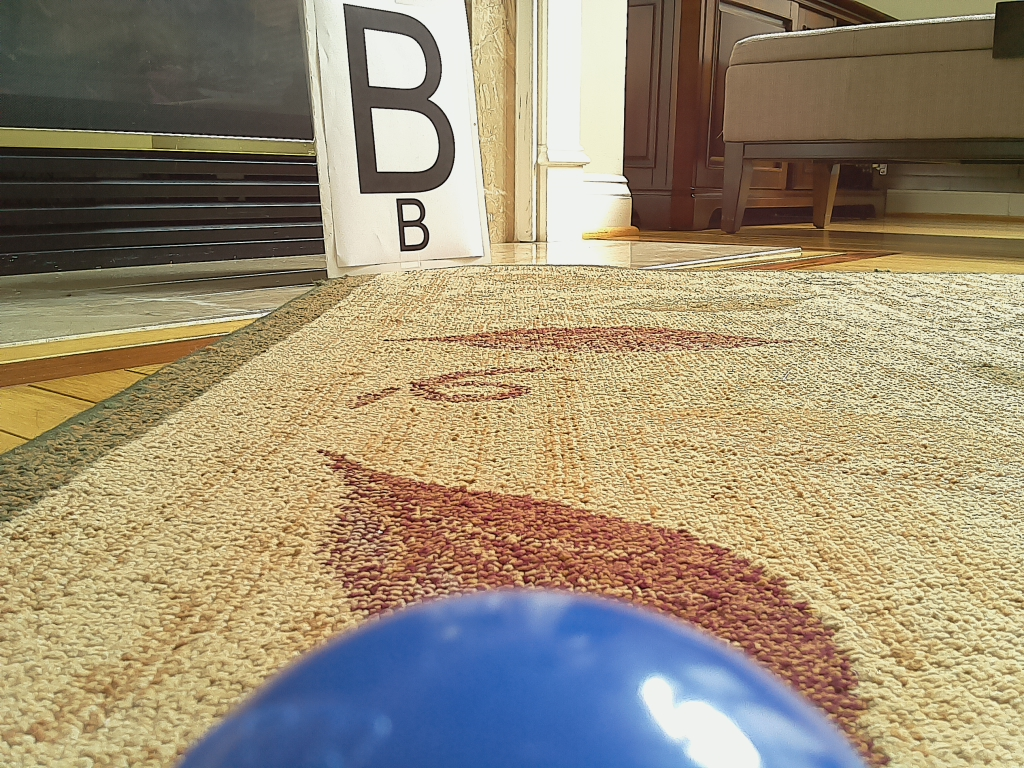letter: (361, 6, 455, 193)
